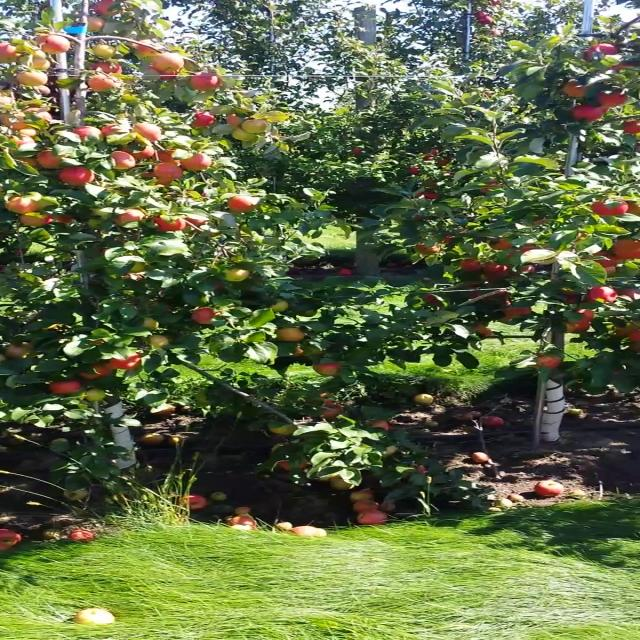apple: (591, 250, 633, 272), (57, 164, 95, 187), (564, 308, 593, 334), (78, 362, 114, 380), (6, 197, 44, 214), (150, 53, 185, 71), (591, 200, 628, 217), (569, 104, 603, 122), (71, 125, 105, 143), (498, 307, 532, 325), (108, 352, 142, 370), (585, 43, 618, 61), (38, 35, 70, 53), (152, 162, 184, 180), (152, 216, 187, 232), (584, 286, 618, 302), (190, 72, 220, 90), (180, 152, 210, 170), (612, 238, 639, 258), (87, 75, 117, 92), (36, 150, 64, 168), (108, 151, 136, 169), (16, 70, 46, 86), (132, 40, 162, 56), (596, 90, 626, 106), (122, 144, 156, 158), (116, 209, 144, 226), (190, 308, 218, 325), (49, 380, 83, 394), (156, 148, 182, 166), (4, 342, 30, 360), (148, 65, 177, 81), (533, 355, 562, 371), (562, 80, 589, 97), (220, 267, 250, 282), (227, 196, 255, 212), (134, 125, 161, 141), (1, 114, 28, 130), (0, 42, 20, 63), (88, 62, 123, 74), (24, 107, 52, 122), (141, 172, 171, 186), (276, 328, 306, 342), (20, 215, 54, 227), (94, 1, 121, 16), (314, 362, 341, 377), (484, 261, 510, 276), (231, 128, 258, 142), (8, 133, 35, 147), (242, 119, 268, 133), (416, 242, 441, 256), (329, 476, 354, 490), (192, 112, 216, 126), (269, 423, 296, 435), (320, 405, 343, 419), (18, 157, 42, 170), (28, 56, 50, 70), (94, 44, 116, 58), (460, 258, 482, 272), (140, 317, 162, 331), (276, 462, 306, 472), (87, 16, 104, 32), (481, 180, 500, 194), (227, 113, 248, 125), (617, 288, 638, 300), (613, 324, 631, 338), (623, 118, 639, 133), (490, 240, 514, 250), (84, 388, 104, 400), (19, 126, 37, 139), (150, 334, 169, 346), (609, 62, 635, 70), (103, 123, 120, 135), (270, 299, 286, 311), (186, 218, 205, 228), (421, 191, 441, 200), (477, 324, 492, 336), (34, 86, 50, 96), (628, 203, 639, 217), (562, 292, 576, 302), (425, 296, 442, 304), (518, 266, 536, 272), (56, 215, 71, 222), (1, 96, 14, 103), (630, 330, 638, 340)
